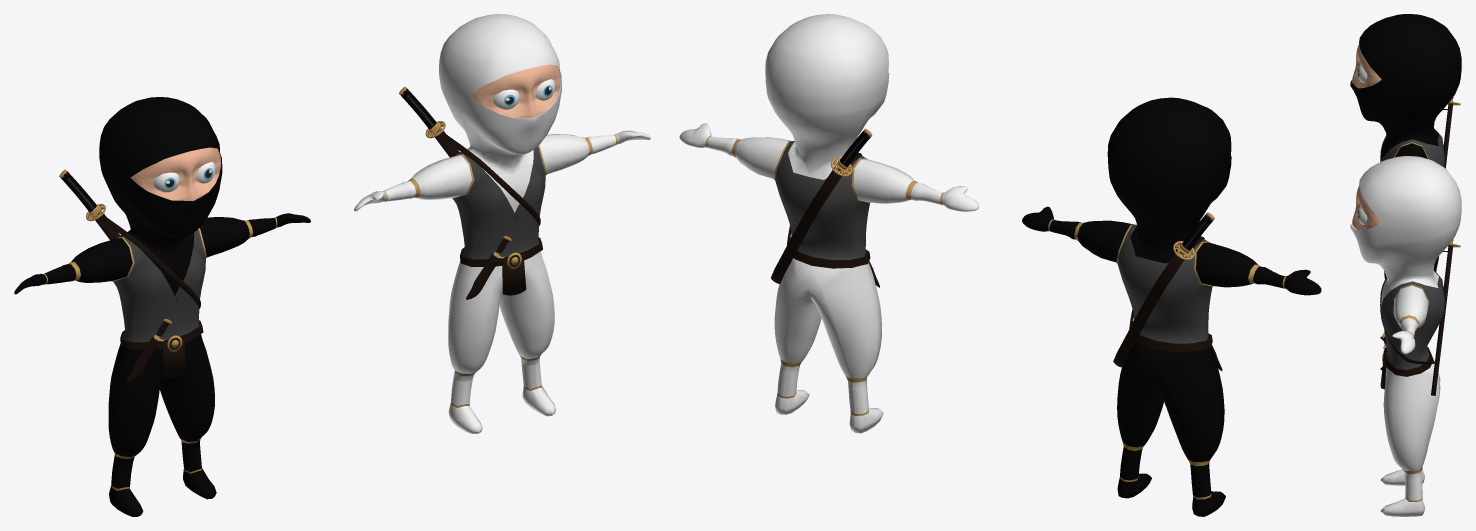
The picture shows the model from 3 angles, left to right: view 1: azimuth 30°, elevation 25°; view 2: azimuth 150°, elevation 25°; view 3: azimuth 270°, elevation 25°; orthographic projection. The views are drawn at different scales.
Parts seen in each view (by area): view 1: Ninja white, Ninja black, sword.belt, sword.belt.001, Bag.001, Bag, Sword.001, Sword; view 2: Ninja black, Ninja white, sword.belt, sword.belt.001, Sword.001, Sword; view 3: Ninja white, Ninja black, sword.belt.001, sword.belt, Bag.001.
Part boxes in pixels (left/top/right/bottom): Ninja white: left=354, top=14, right=650, bottom=433; Ninja black: left=14, top=97, right=310, bottom=516; sword.belt: left=95, top=213, right=200, bottom=308; sword.belt.001: left=435, top=130, right=540, bottom=225; Bag.001: left=502, top=252, right=526, bottom=295; Bag: left=162, top=335, right=186, bottom=378; Sword.001: left=399, top=86, right=445, bottom=138; Sword: left=59, top=169, right=105, bottom=221; Ninja black: left=1022, top=97, right=1321, bottom=516; Ninja white: left=679, top=14, right=978, bottom=433; sword.belt: left=1113, top=236, right=1204, bottom=367; sword.belt.001: left=771, top=152, right=861, bottom=283; Sword.001: left=830, top=128, right=872, bottom=176; Sword: left=1173, top=212, right=1214, bottom=259; Ninja white: left=1350, top=156, right=1461, bottom=516; Ninja black: left=1350, top=14, right=1461, bottom=370; sword.belt.001: left=1380, top=245, right=1453, bottom=395; sword.belt: left=1380, top=103, right=1453, bottom=168; Bag.001: left=1380, top=350, right=1386, bottom=388.
Bounding box in the file's own units: 6.98 × 4.13 × 1.24.
12 materials, 12 textured.
